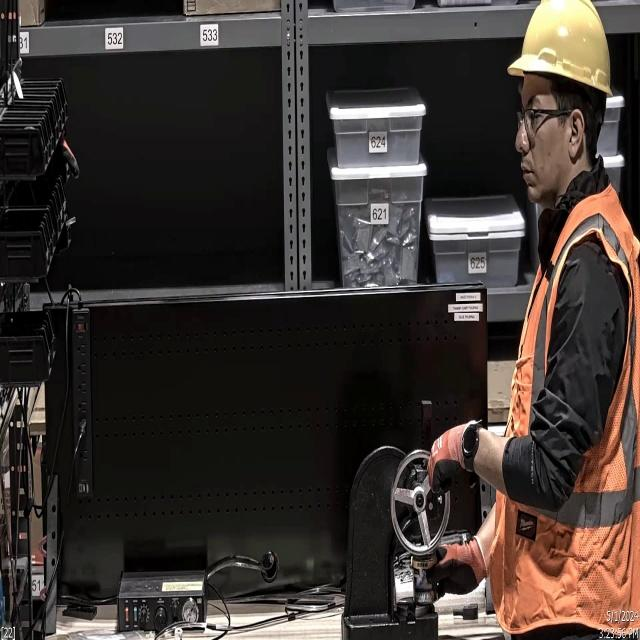construction-gloves: (396, 533, 482, 599), (424, 422, 472, 501)
